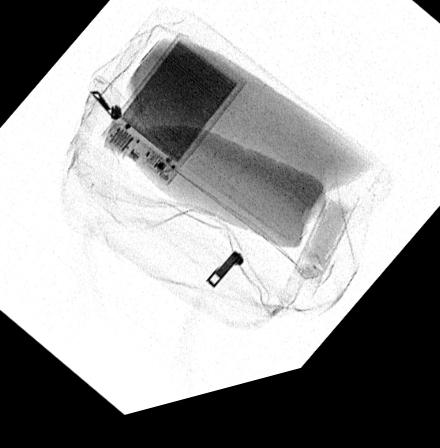Powerbank: (99, 40, 248, 196)
